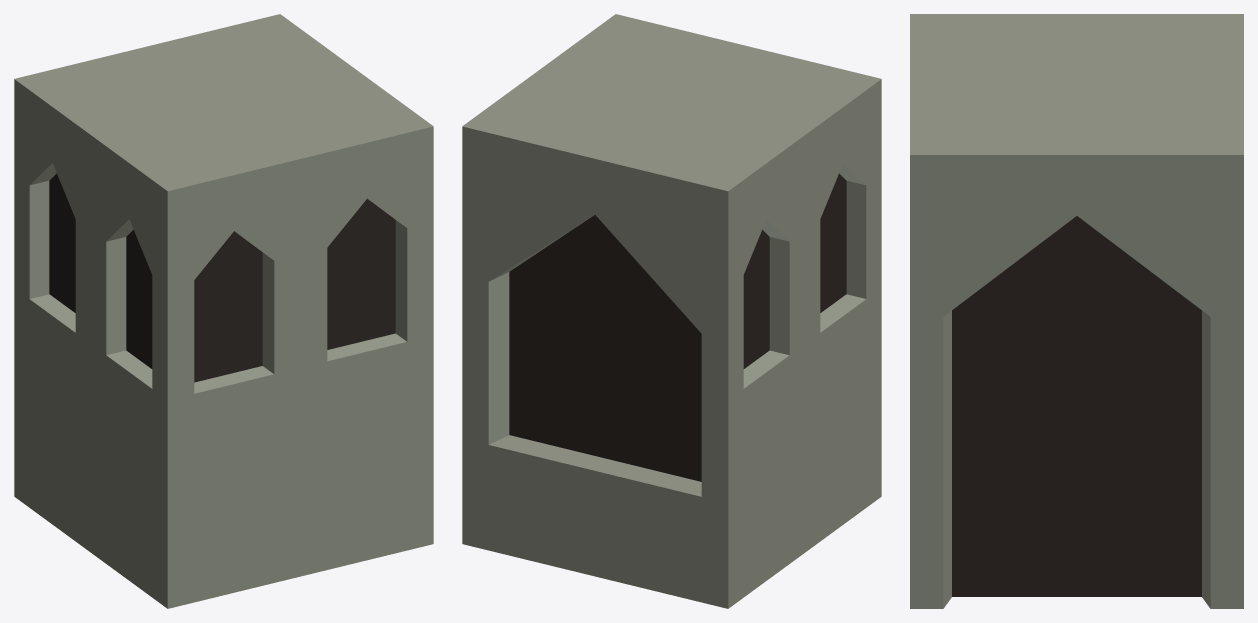
File: window_decor.fbx
3 views of the same model, side by side, from view 1: azimuth 30°, elevation 25°; view 2: azimuth 150°, elevation 25°; view 3: azimuth 270°, elevation 25° (orthographic). The views are drawn at different scales.
Visible parts, largest first — view 1: window_decor; view 2: window_decor; view 3: window_decor.
Boxes of the visible parts, left/top/right/bottom form: window_decor: left=14, top=14, right=433, bottom=608; window_decor: left=462, top=14, right=881, bottom=608; window_decor: left=910, top=14, right=1243, bottom=608.
Bounding box in the file's own units: 10 × 10 × 15.
